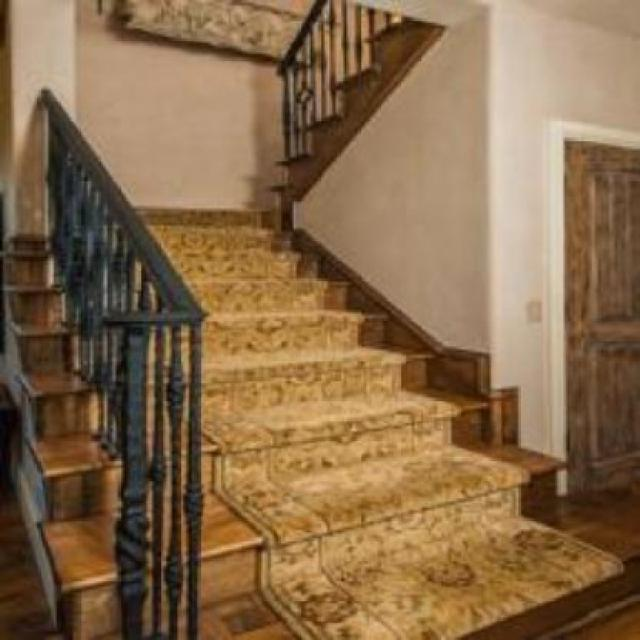stair: (59, 204, 559, 566)
